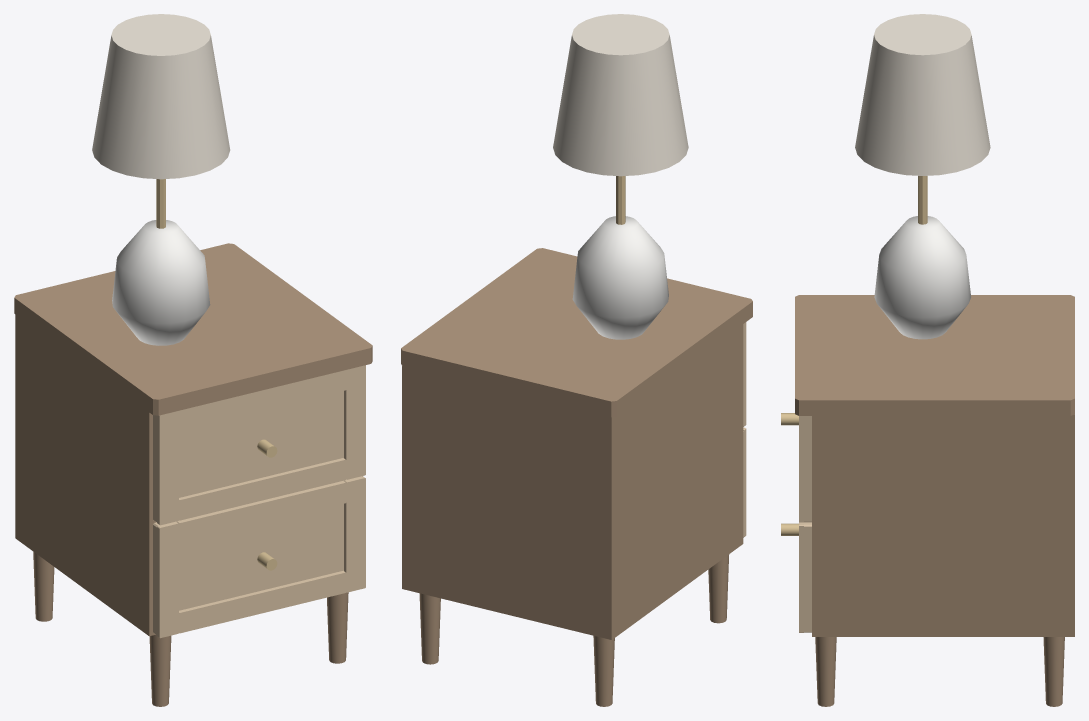
3 renders of one model, left to right at view 1: azimuth 30°, elevation 25°; view 2: azimuth 150°, elevation 25°; view 3: azimuth 270°, elevation 25°, orthographic.
Parts seen in each view (by area): view 1: Tab đầu giường Rộng=350; Sâu=400; view 2: Tab đầu giường Rộng=350; Sâu=400; view 3: Tab đầu giường Rộng=350; Sâu=400.
Part boxes in pixels (x1=…): Tab đầu giường Rộng=350; Sâu=400: x1=14, y1=14, x2=372, y2=706; Tab đầu giường Rộng=350; Sâu=400: x1=401, y1=14, x2=752, y2=706; Tab đầu giường Rộng=350; Sâu=400: x1=781, y1=14, x2=1074, y2=706.
Size of the model in its own units: 0.36 by 0.97 by 0.425.
